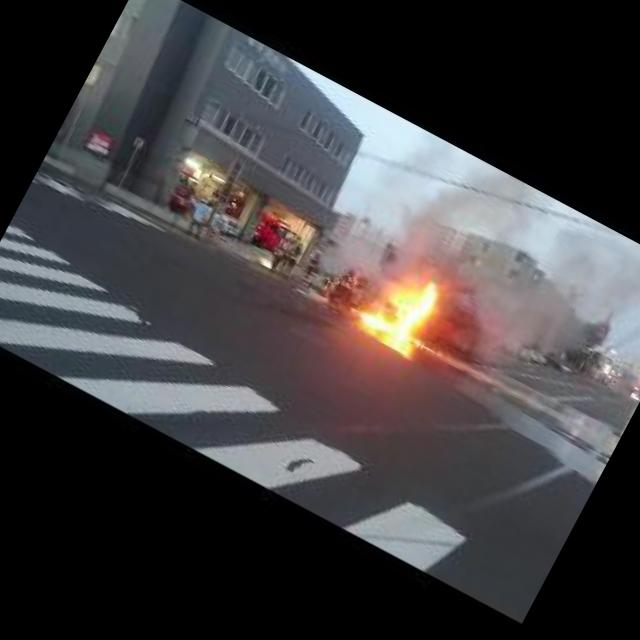fire: (356, 258, 471, 360)
smoke: (428, 173, 640, 406), (356, 128, 511, 298)
